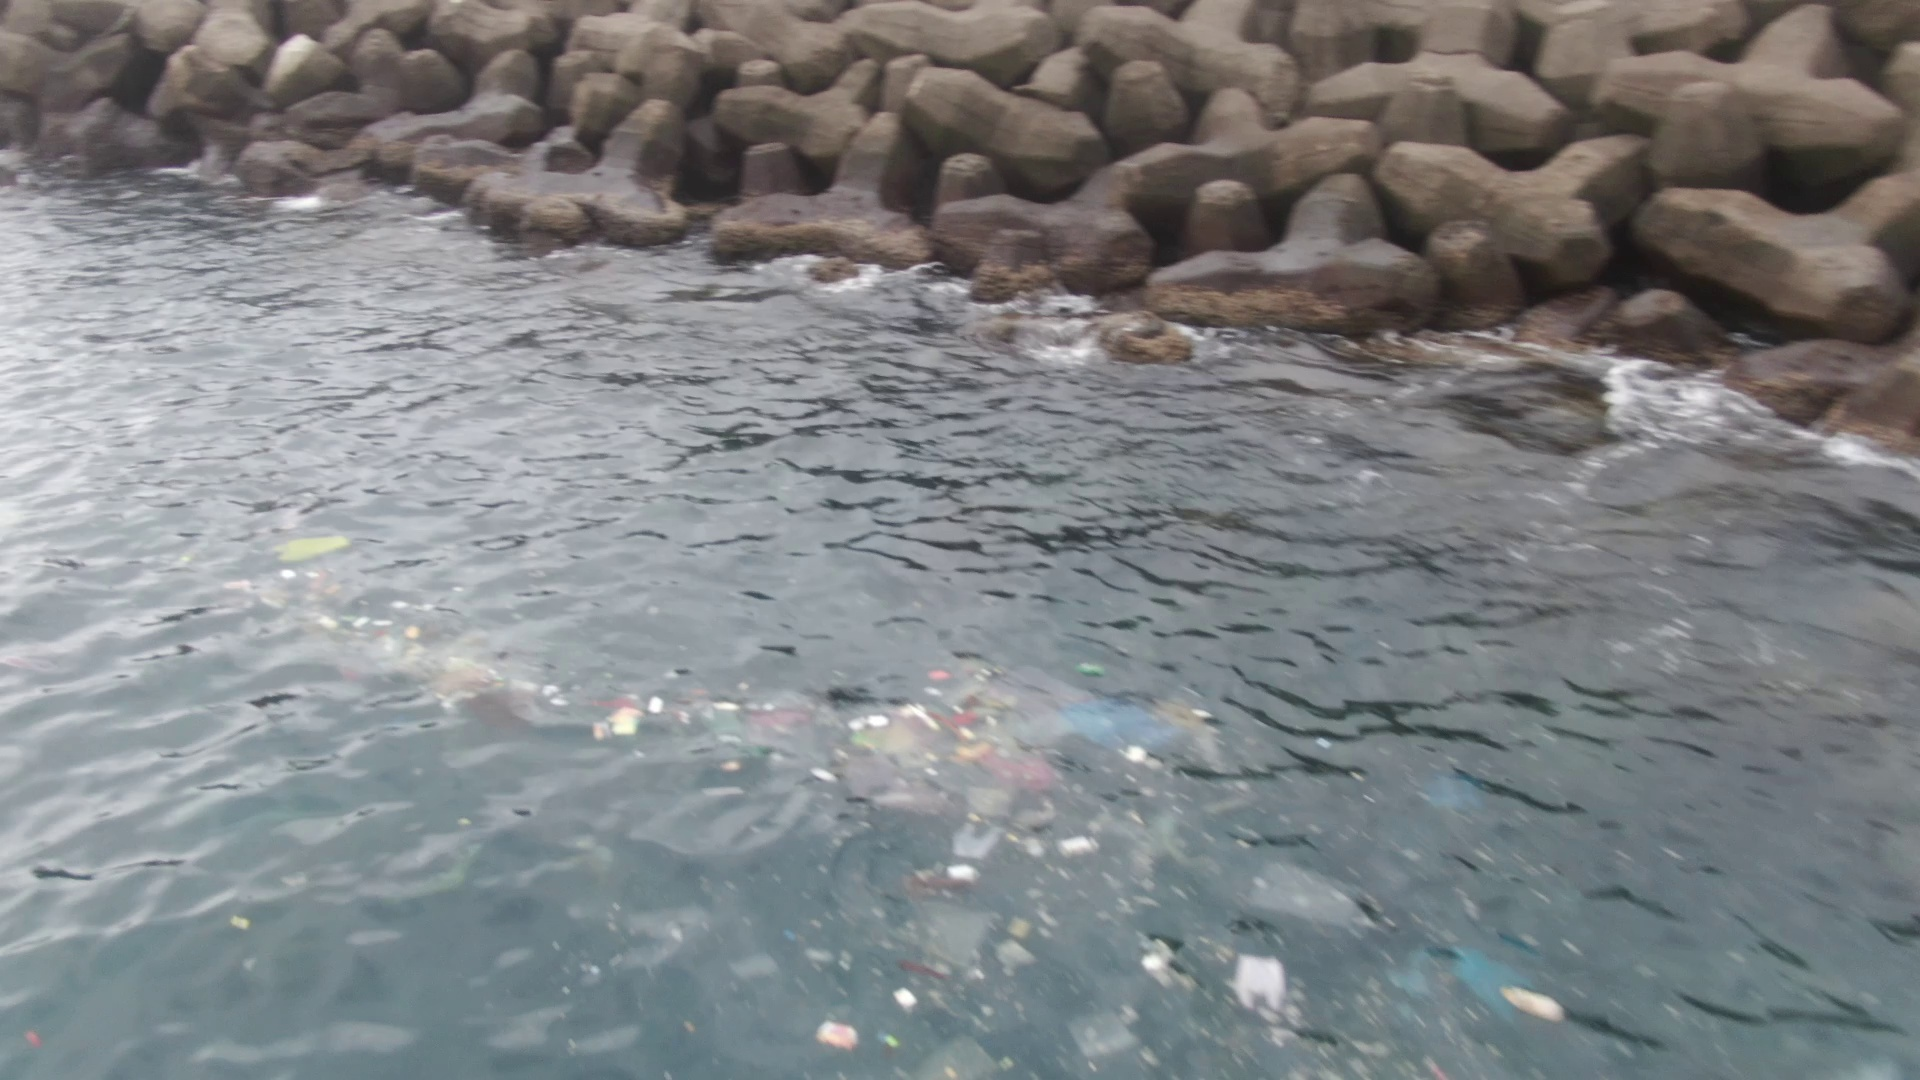garbage: (861, 663, 1578, 1080), (655, 690, 862, 779), (458, 658, 653, 742), (252, 520, 363, 629), (371, 624, 444, 684)
